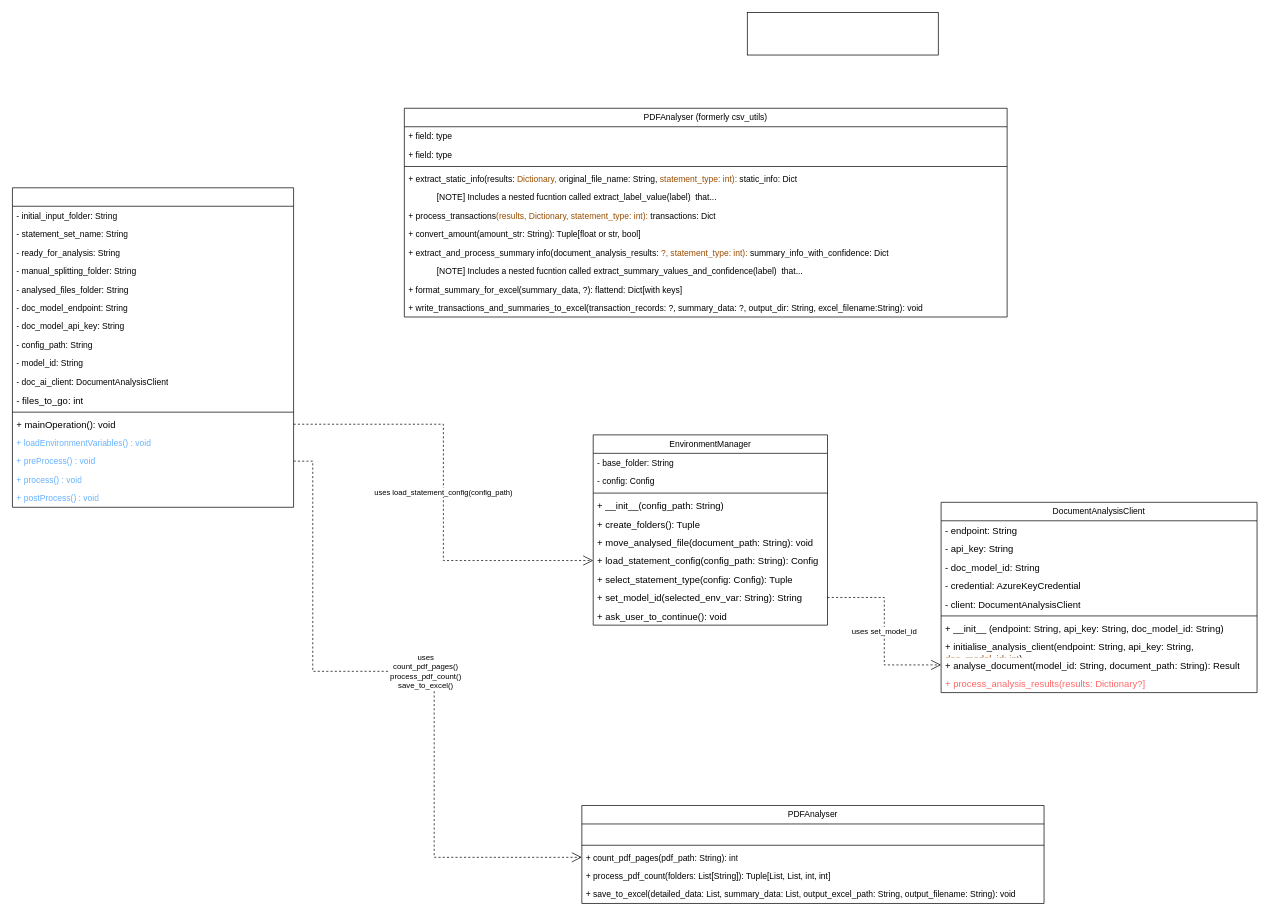
Image size: 1269x918. Some labels were removed from this diagram. The box of each missing label's shape, as (x1, y1, x2, y2) in pixels:
Main (need to add get stereotype for .env): (12, 187, 294, 507)
Red - not implemented Yellow - not sure Blue - new: (747, 12, 938, 55)
